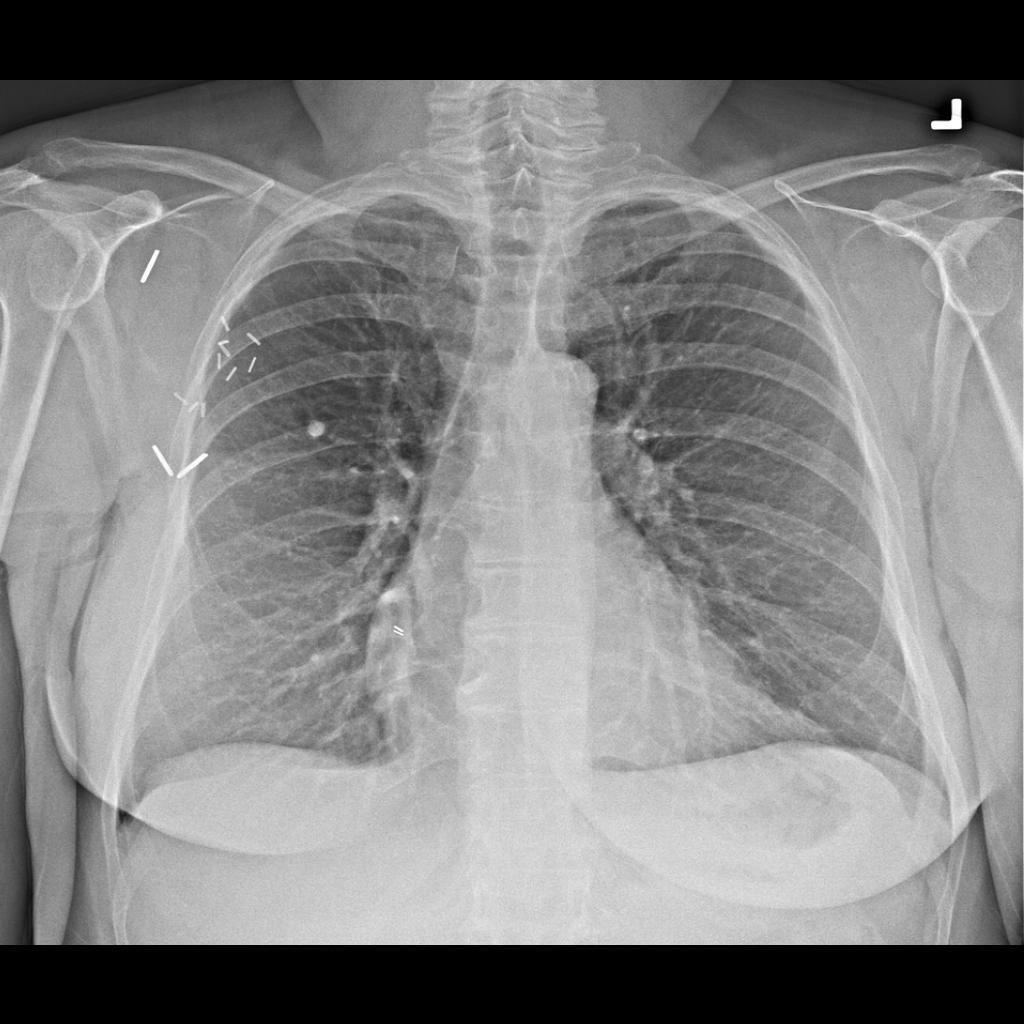Nodule: (301, 410, 340, 457)
